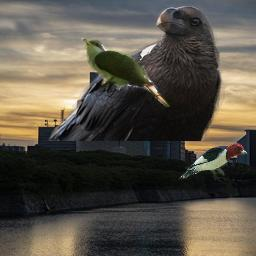Crow: (46, 2, 225, 141)
Cuckoo: (80, 38, 171, 107)
Woodpecker: (178, 140, 251, 182)
